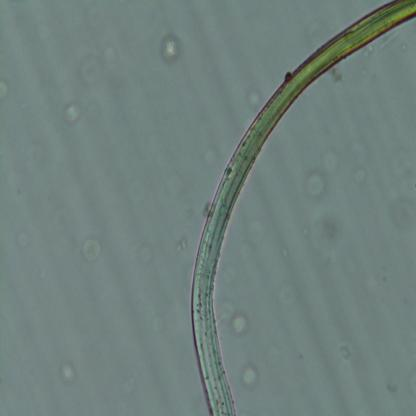Background material: (322, 141, 370, 182), (76, 43, 118, 88), (311, 200, 341, 253), (222, 299, 249, 337), (121, 177, 151, 209), (391, 196, 416, 233), (305, 164, 329, 200), (159, 31, 182, 65), (56, 358, 80, 390), (237, 359, 260, 390), (10, 225, 34, 252), (136, 236, 158, 264), (62, 99, 81, 126), (334, 340, 355, 364), (82, 238, 102, 263), (245, 85, 262, 112), (203, 147, 220, 169), (279, 241, 293, 262), (386, 379, 401, 397), (0, 79, 10, 104), (176, 236, 188, 255), (285, 289, 300, 304)
Natural material: (191, 0, 416, 414)
